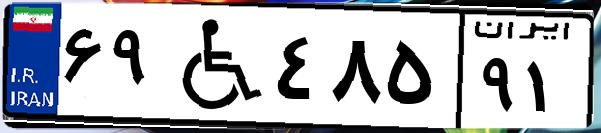1: (525, 38, 570, 115)
4: (270, 28, 330, 110)
5: (385, 28, 445, 110)
6: (57, 26, 110, 100)
8: (330, 28, 385, 110)
9: (475, 38, 525, 113), (110, 28, 158, 98)
ژ (معلولین و جانبازان): (158, 12, 270, 120)
